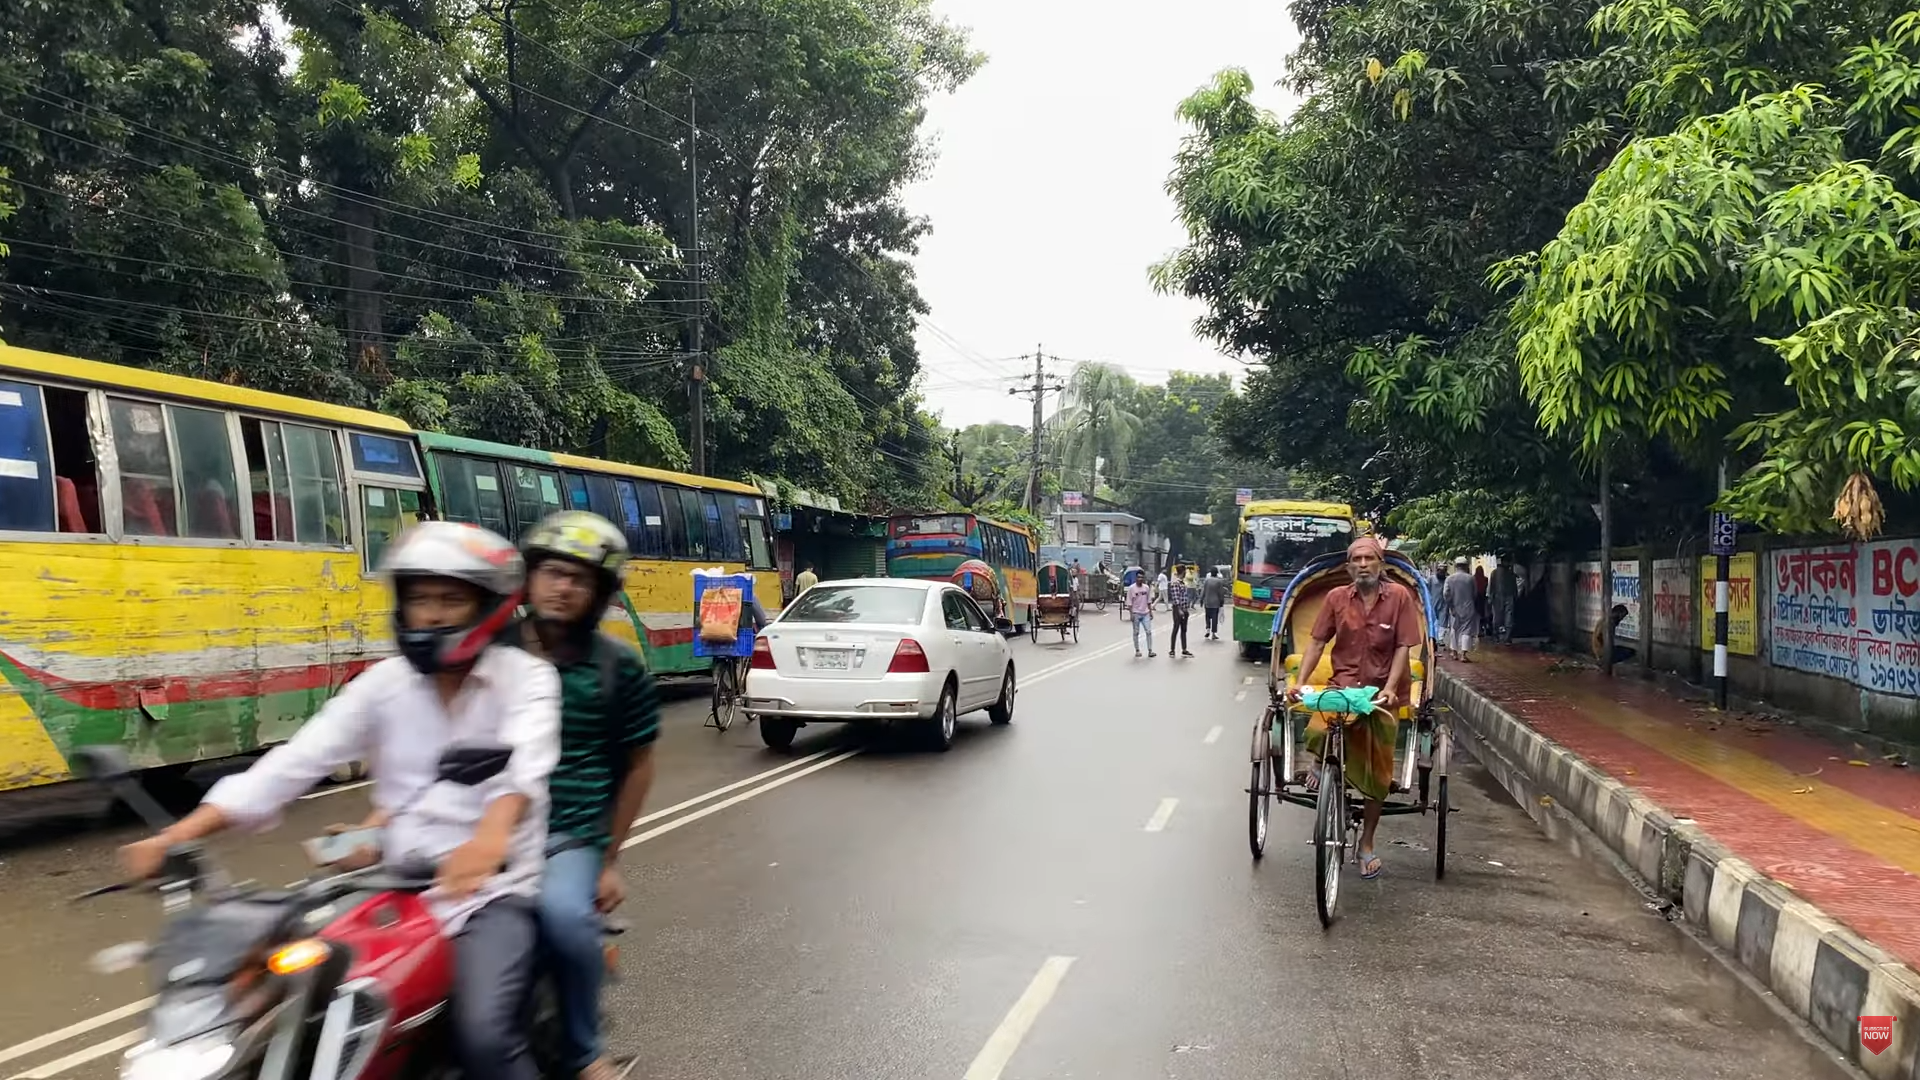Car: (733, 564, 1022, 757)
Motorcycle: (76, 497, 703, 1077)
Rickshaw: (1234, 525, 1458, 938)
